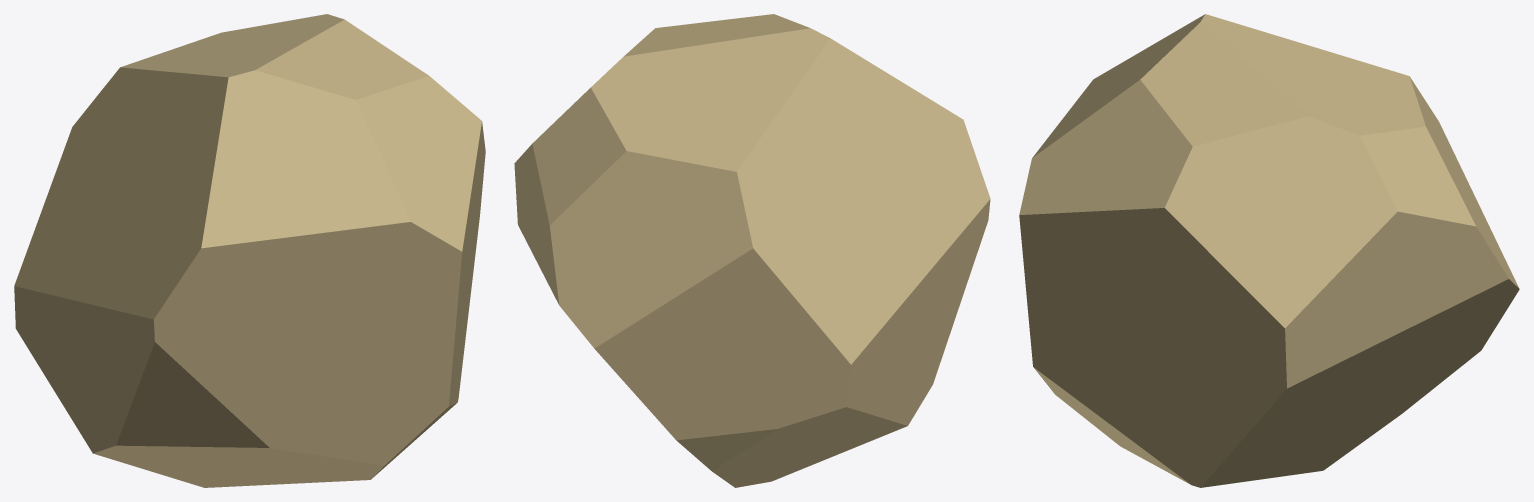
File: hiekkakivi1.fbx
3 renders of one model, left to right at view 1: azimuth 30°, elevation 25°; view 2: azimuth 150°, elevation 25°; view 3: azimuth 270°, elevation 25°, orthographic. The views are drawn at different scales.
Parts seen in each view (by area): view 1: Cube; view 2: Cube; view 3: Cube.
Part boxes in pixels (x1,y1,x2,y2): Cube: (14,14,485,487); Cube: (514,14,990,487); Cube: (1019,14,1519,487).
Bounding box in the file's own units: 308 × 315 × 325.
